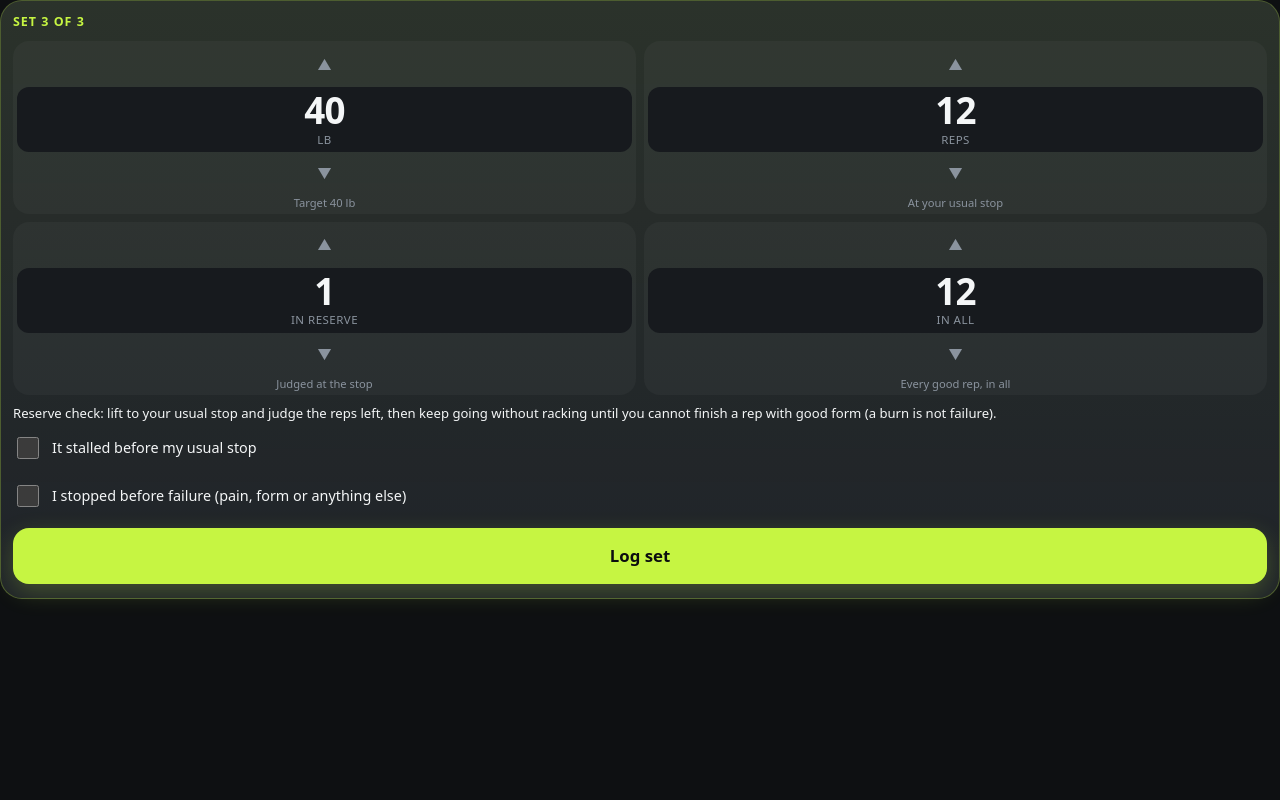
Test: the logger on a reserve check › warns when the reps in all are fewer than at the stop
Click the button named "Decrease reps in all" at (956, 355), box [648,335,1263,375]
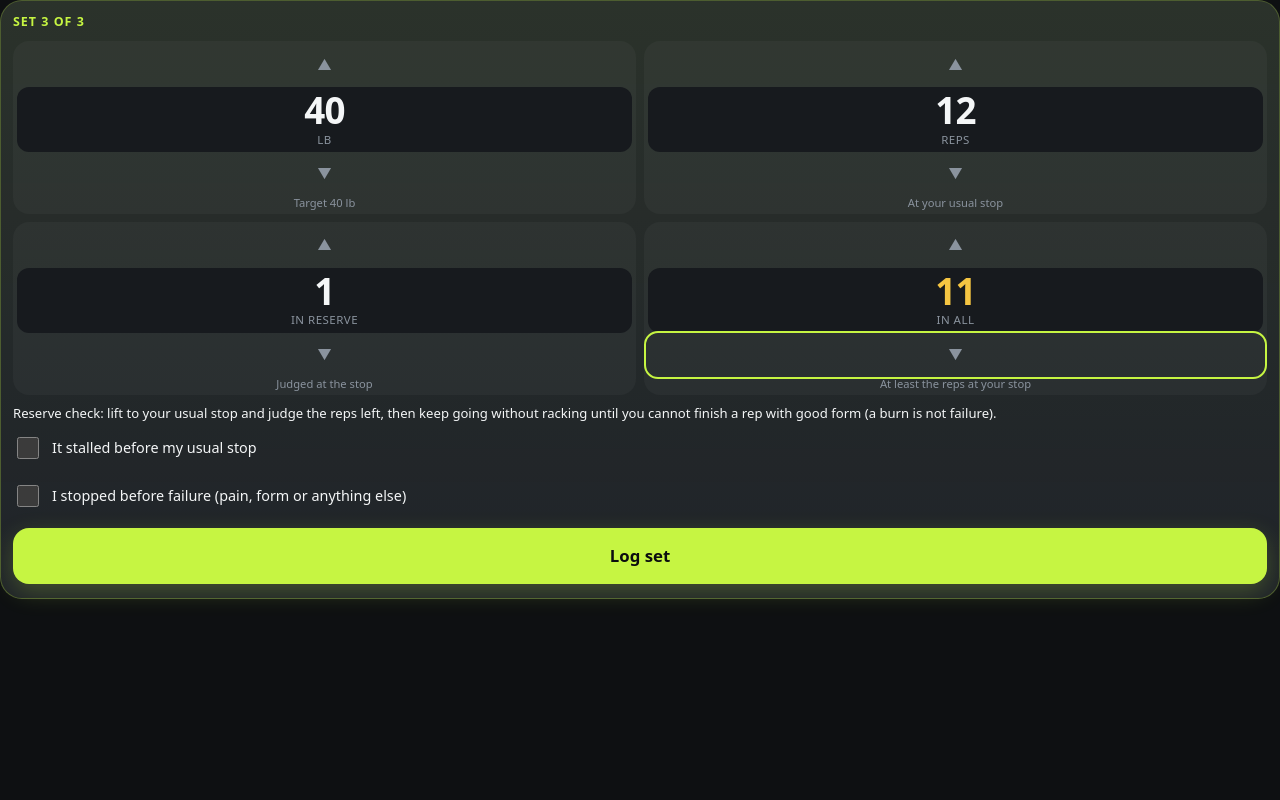
Now the text with test id "total-hint" reads "At least the reps at your stop", box [880,376,1031,391]
